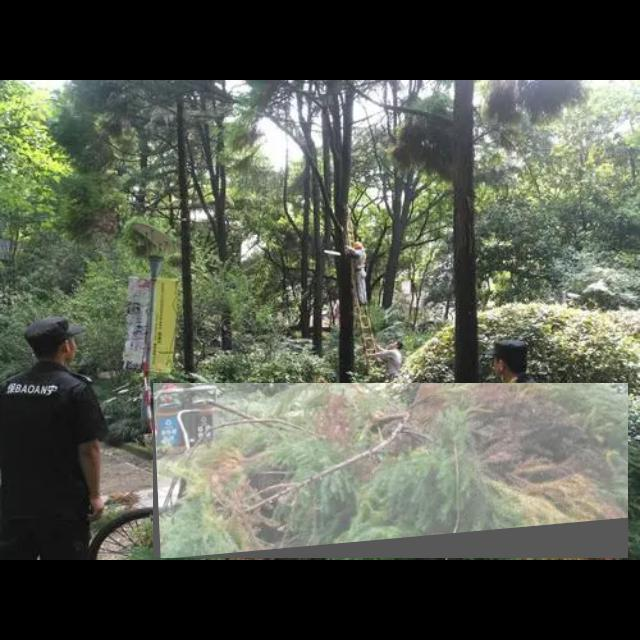fallen_tree: (153, 383, 629, 559)
